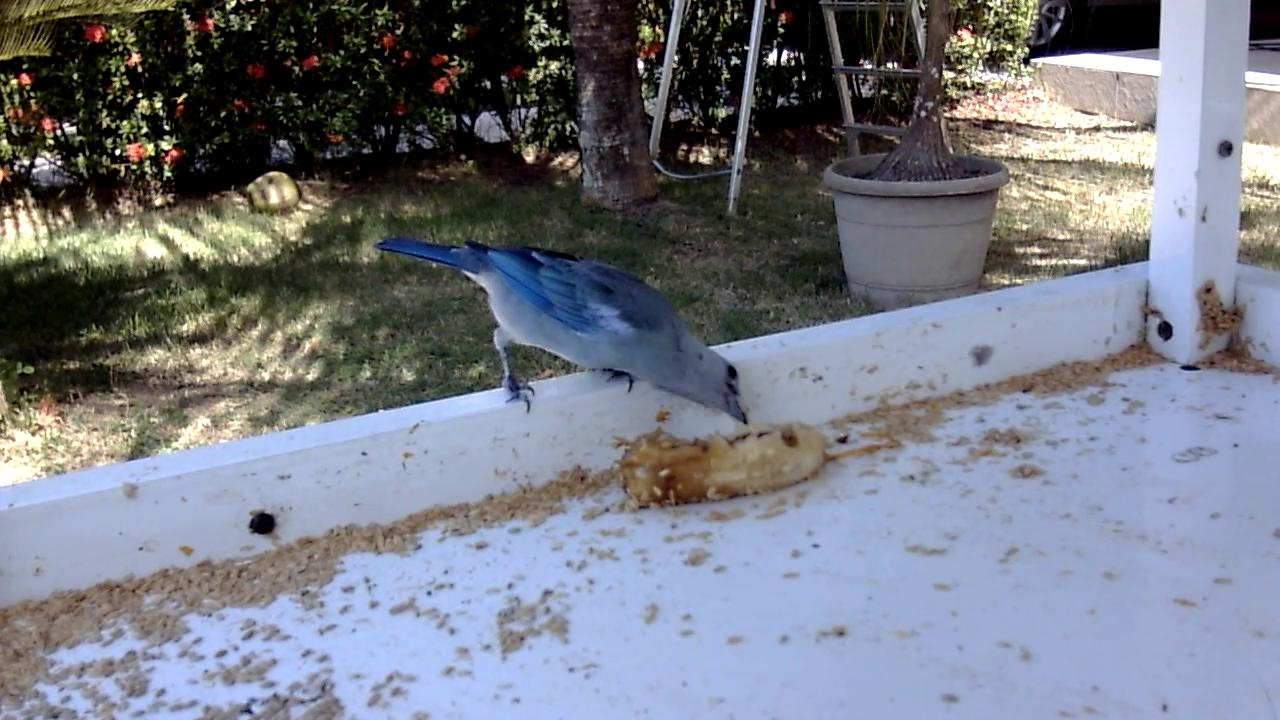sanhaco_da_amazonia: (374, 233, 753, 430)
